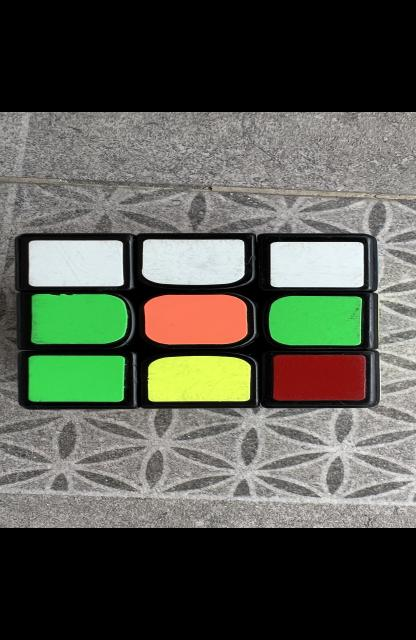Green: (30, 294, 126, 344), (268, 296, 361, 345), (26, 356, 125, 402)
Orange: (143, 295, 246, 344)
Red: (271, 355, 365, 400)
White: (141, 240, 245, 285), (28, 240, 123, 287), (270, 242, 363, 288)
Yellow: (146, 356, 250, 402)
